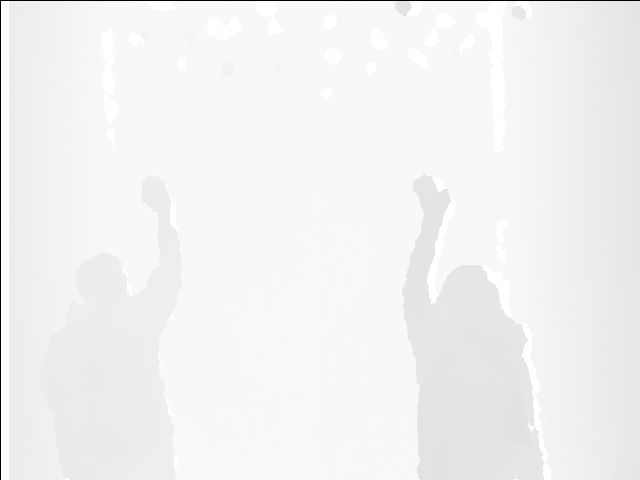hand: (412, 175, 452, 223), (139, 174, 175, 217)
